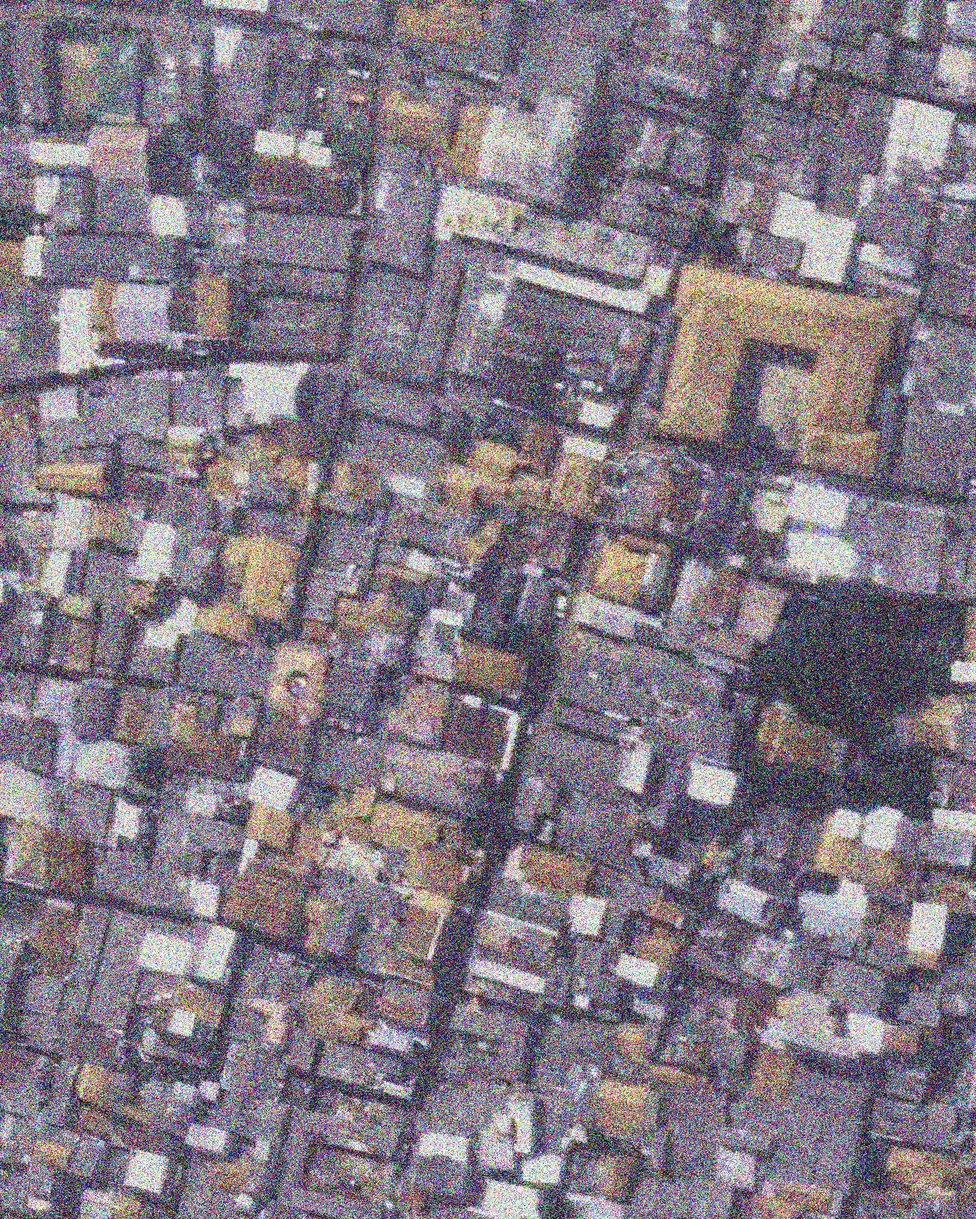building: (650, 267, 905, 481), (542, 610, 765, 782), (470, 29, 606, 207), (432, 183, 652, 283), (295, 858, 459, 992), (95, 796, 244, 933), (348, 221, 471, 386), (845, 85, 959, 253), (19, 899, 127, 1069), (653, 548, 788, 682), (277, 1087, 409, 1219), (597, 436, 740, 557), (764, 1052, 875, 1200), (891, 312, 976, 499), (839, 486, 976, 597), (748, 0, 872, 117), (493, 837, 632, 940), (417, 1070, 547, 1178), (288, 472, 394, 602), (529, 709, 664, 810), (721, 93, 841, 204), (702, 169, 824, 276), (460, 904, 578, 1014), (804, 85, 893, 223), (374, 73, 492, 177), (597, 878, 700, 997), (279, 1024, 422, 1103), (437, 996, 546, 1099), (607, 50, 739, 134), (222, 936, 315, 1053), (385, 739, 509, 826), (366, 139, 445, 273), (443, 247, 520, 383), (501, 284, 624, 365), (744, 699, 851, 789), (656, 1074, 778, 1152), (551, 785, 659, 871), (224, 852, 320, 947), (438, 992, 540, 1081), (41, 1048, 140, 1139), (165, 689, 261, 781), (246, 129, 356, 209), (531, 1008, 621, 1104), (88, 906, 157, 1031), (226, 530, 312, 630), (510, 259, 653, 316), (734, 913, 832, 994), (0, 818, 99, 898), (781, 988, 877, 1069), (790, 863, 878, 949), (140, 23, 212, 127), (880, 1133, 976, 1211), (870, 1082, 975, 1153), (590, 528, 681, 609), (815, 77, 893, 171), (812, 808, 902, 889), (436, 430, 518, 518), (626, 117, 720, 193), (247, 208, 360, 271), (71, 726, 169, 798), (559, 933, 645, 1012), (923, 195, 976, 321), (616, 174, 707, 247), (317, 722, 400, 802), (441, 689, 523, 769), (4, 280, 64, 388), (540, 430, 612, 520), (677, 1002, 761, 1078), (37, 231, 178, 276), (586, 1064, 668, 1141), (262, 635, 332, 725), (0, 15, 56, 124), (294, 973, 378, 1045), (249, 295, 346, 357), (218, 33, 278, 133), (659, 30, 747, 98), (148, 361, 231, 433), (623, 1168, 739, 1219), (109, 670, 182, 750), (84, 28, 144, 125), (200, 1079, 288, 1145), (816, 951, 895, 1024), (889, 682, 968, 755), (228, 360, 316, 425), (398, 833, 477, 905), (343, 376, 440, 434), (220, 1032, 298, 1103), (380, 668, 450, 747), (152, 186, 248, 243), (549, 0, 640, 59), (106, 370, 179, 443), (317, 651, 384, 730), (720, 964, 786, 1043), (254, 706, 329, 775), (408, 1124, 477, 1199), (711, 865, 786, 934), (478, 353, 556, 419), (393, 0, 487, 54), (0, 758, 69, 831), (40, 379, 113, 447), (379, 497, 456, 559), (450, 639, 530, 698), (168, 523, 226, 604), (798, 205, 855, 287), (366, 799, 442, 860), (784, 62, 856, 126), (408, 604, 467, 682), (137, 906, 201, 977), (470, 0, 525, 82), (265, 409, 340, 469), (393, 884, 452, 960), (48, 285, 97, 375), (71, 665, 126, 745), (109, 281, 174, 347), (303, 898, 369, 963), (218, 632, 280, 701), (506, 564, 564, 637), (185, 924, 247, 992), (73, 538, 135, 606), (247, 261, 357, 299), (732, 844, 801, 902), (174, 1162, 245, 1218), (292, 367, 351, 433), (811, 806, 863, 879), (321, 779, 380, 843), (174, 623, 229, 691), (783, 530, 859, 579), (0, 713, 60, 775), (86, 123, 151, 178), (847, 26, 904, 88), (152, 482, 222, 531), (335, 591, 411, 636), (193, 595, 260, 646), (749, 801, 804, 863), (904, 895, 945, 978), (470, 1170, 539, 1219), (0, 429, 45, 504), (373, 978, 436, 1031), (124, 1140, 181, 1198), (41, 828, 90, 894), (786, 481, 852, 530), (91, 601, 135, 674), (692, 907, 749, 963), (594, 1140, 643, 1205), (0, 605, 53, 665), (325, 458, 391, 506), (362, 1017, 425, 1067), (302, 0, 387, 37), (747, 1040, 796, 1104), (893, 44, 949, 100), (241, 800, 301, 852), (933, 39, 976, 111), (245, 763, 304, 815), (48, 172, 96, 235), (95, 179, 153, 231), (617, 19, 672, 72), (50, 614, 100, 672), (79, 1183, 158, 1219), (240, 467, 298, 516), (49, 493, 96, 553), (37, 462, 109, 501), (683, 759, 740, 808), (920, 868, 976, 916), (857, 239, 921, 281), (860, 900, 916, 948), (518, 418, 565, 474), (931, 755, 976, 813), (31, 675, 80, 728), (198, 271, 236, 339), (881, 1055, 932, 1102), (789, 810, 829, 869), (615, 1018, 666, 1064), (942, 116, 975, 187), (507, 465, 556, 512), (0, 933, 25, 1025), (66, 1132, 111, 1183), (9, 1164, 53, 1215), (807, 75, 853, 122), (733, 522, 782, 566), (921, 833, 976, 872), (0, 233, 43, 281), (288, 819, 331, 865), (1, 173, 50, 212), (759, 555, 820, 586), (929, 806, 976, 846), (938, 966, 975, 1016), (127, 642, 174, 681), (182, 878, 225, 920), (38, 547, 73, 598), (300, 580, 339, 624), (870, 269, 922, 302), (184, 1120, 232, 1155), (637, 259, 677, 301), (10, 510, 53, 549), (898, 989, 942, 1027), (0, 669, 39, 711), (30, 1136, 75, 1172), (881, 1022, 924, 1056), (896, 0, 930, 41), (0, 1172, 31, 1215), (56, 592, 98, 621), (948, 0, 975, 42), (871, 54, 899, 88), (873, 32, 886, 42)
tree: (811, 571, 975, 764), (748, 593, 858, 709), (735, 766, 881, 818), (872, 746, 941, 826), (195, 131, 256, 208), (487, 619, 558, 670), (458, 796, 516, 854), (319, 118, 384, 165), (721, 412, 775, 468), (150, 132, 191, 192), (430, 416, 477, 465), (677, 873, 723, 918), (940, 911, 976, 962), (125, 742, 167, 785), (481, 412, 524, 447), (879, 977, 912, 1022), (301, 775, 337, 809), (136, 810, 160, 853), (224, 798, 256, 827), (2, 206, 28, 235), (13, 885, 44, 909), (179, 253, 205, 281), (163, 1061, 189, 1086), (118, 787, 144, 806), (342, 48, 364, 67), (407, 69, 426, 87), (36, 1074, 52, 1088)
